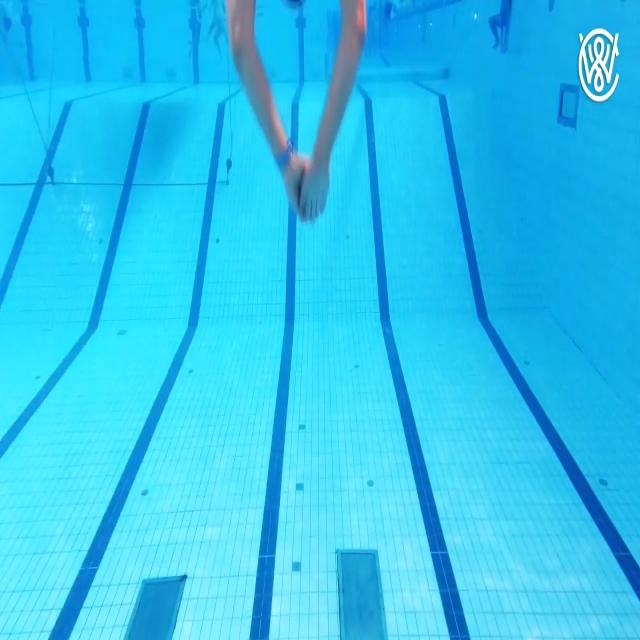Swimming: (225, 0, 373, 227)
